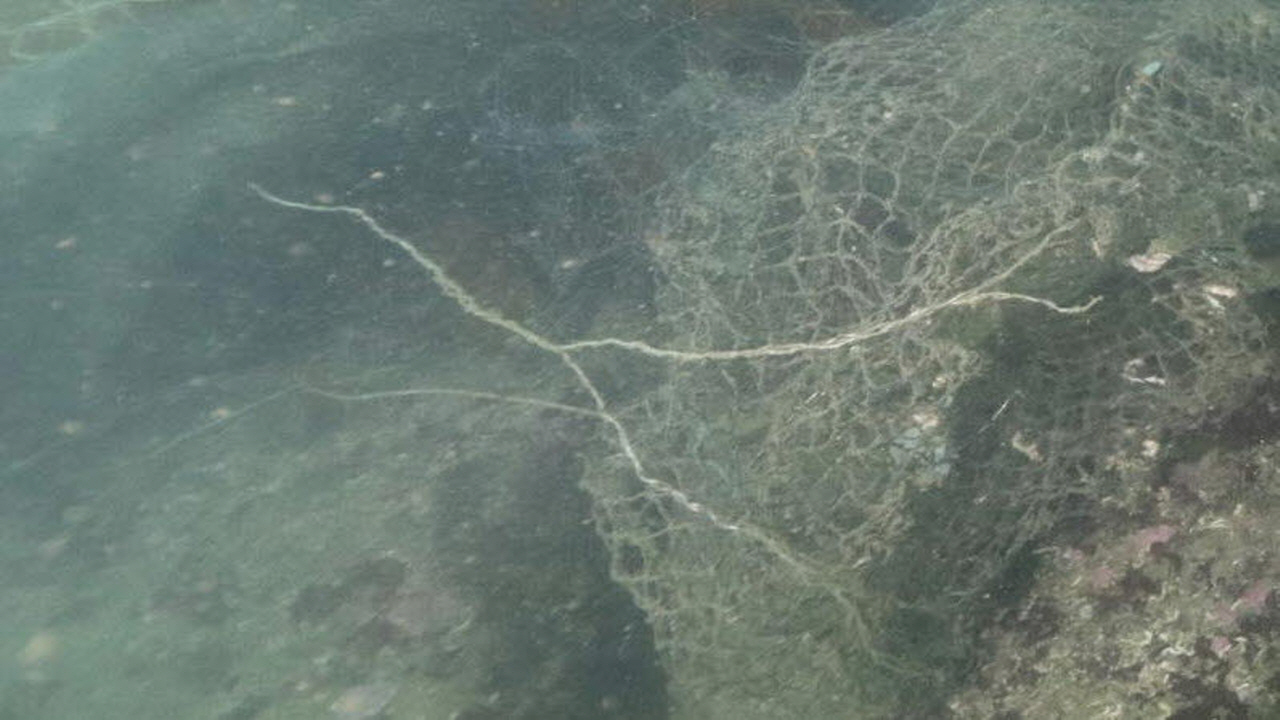fish net: (579, 0, 1280, 720)
